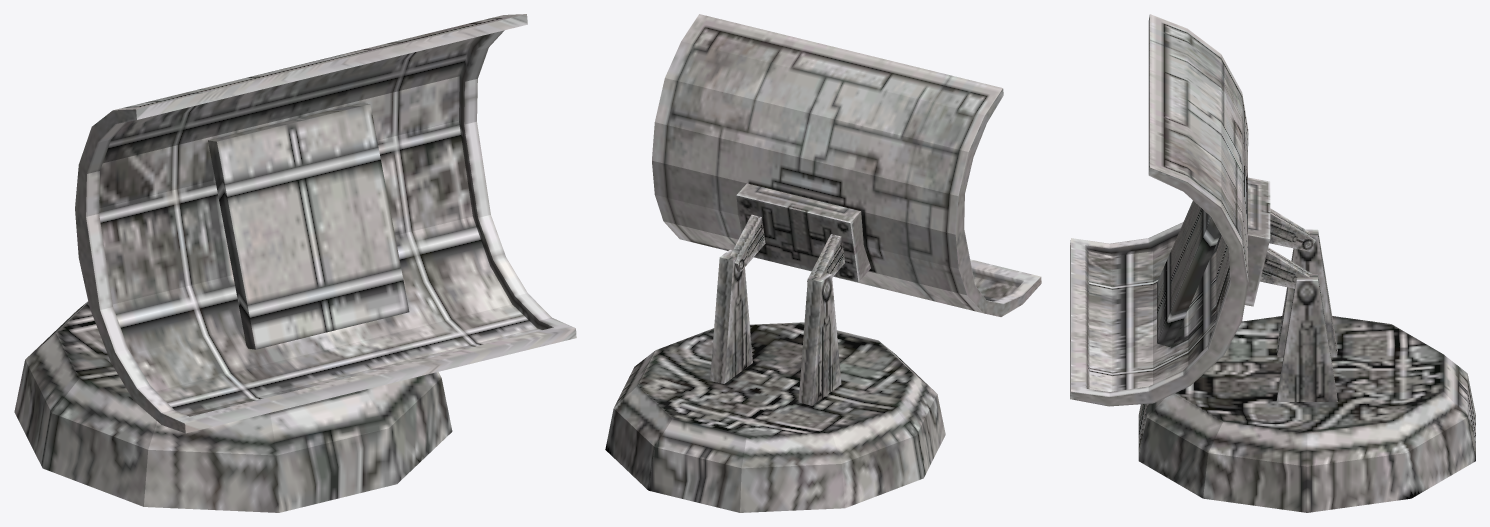
Rendered from corellian_corvette_radar_s01_l1.fbx.
3 views of the same model, side by side, from view 1: azimuth 30°, elevation 25°; view 2: azimuth 150°, elevation 25°; view 3: azimuth 270°, elevation 25° (orthographic). The views are drawn at different scales.
Parts seen in each view (by area): view 1: mesh_node; view 2: mesh_node; view 3: mesh_node.
Boxes of the visible parts, x1,y1,x2,y2 form: mesh_node: [14, 14, 576, 512]; mesh_node: [605, 14, 1041, 512]; mesh_node: [1070, 14, 1475, 512].
Bounding box in the file's own units: 10.97 × 11.58 × 12.25.
1 material, 1 textured.
